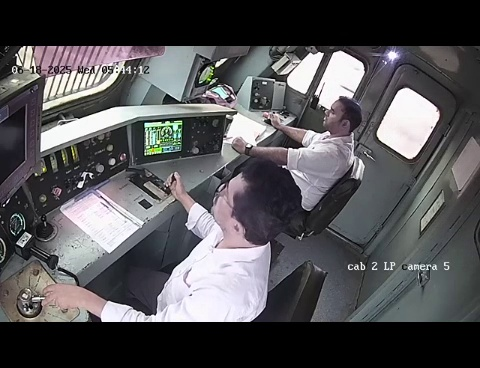brake_applied: (1, 253, 106, 322)
horn_inactive: (27, 209, 67, 245)
